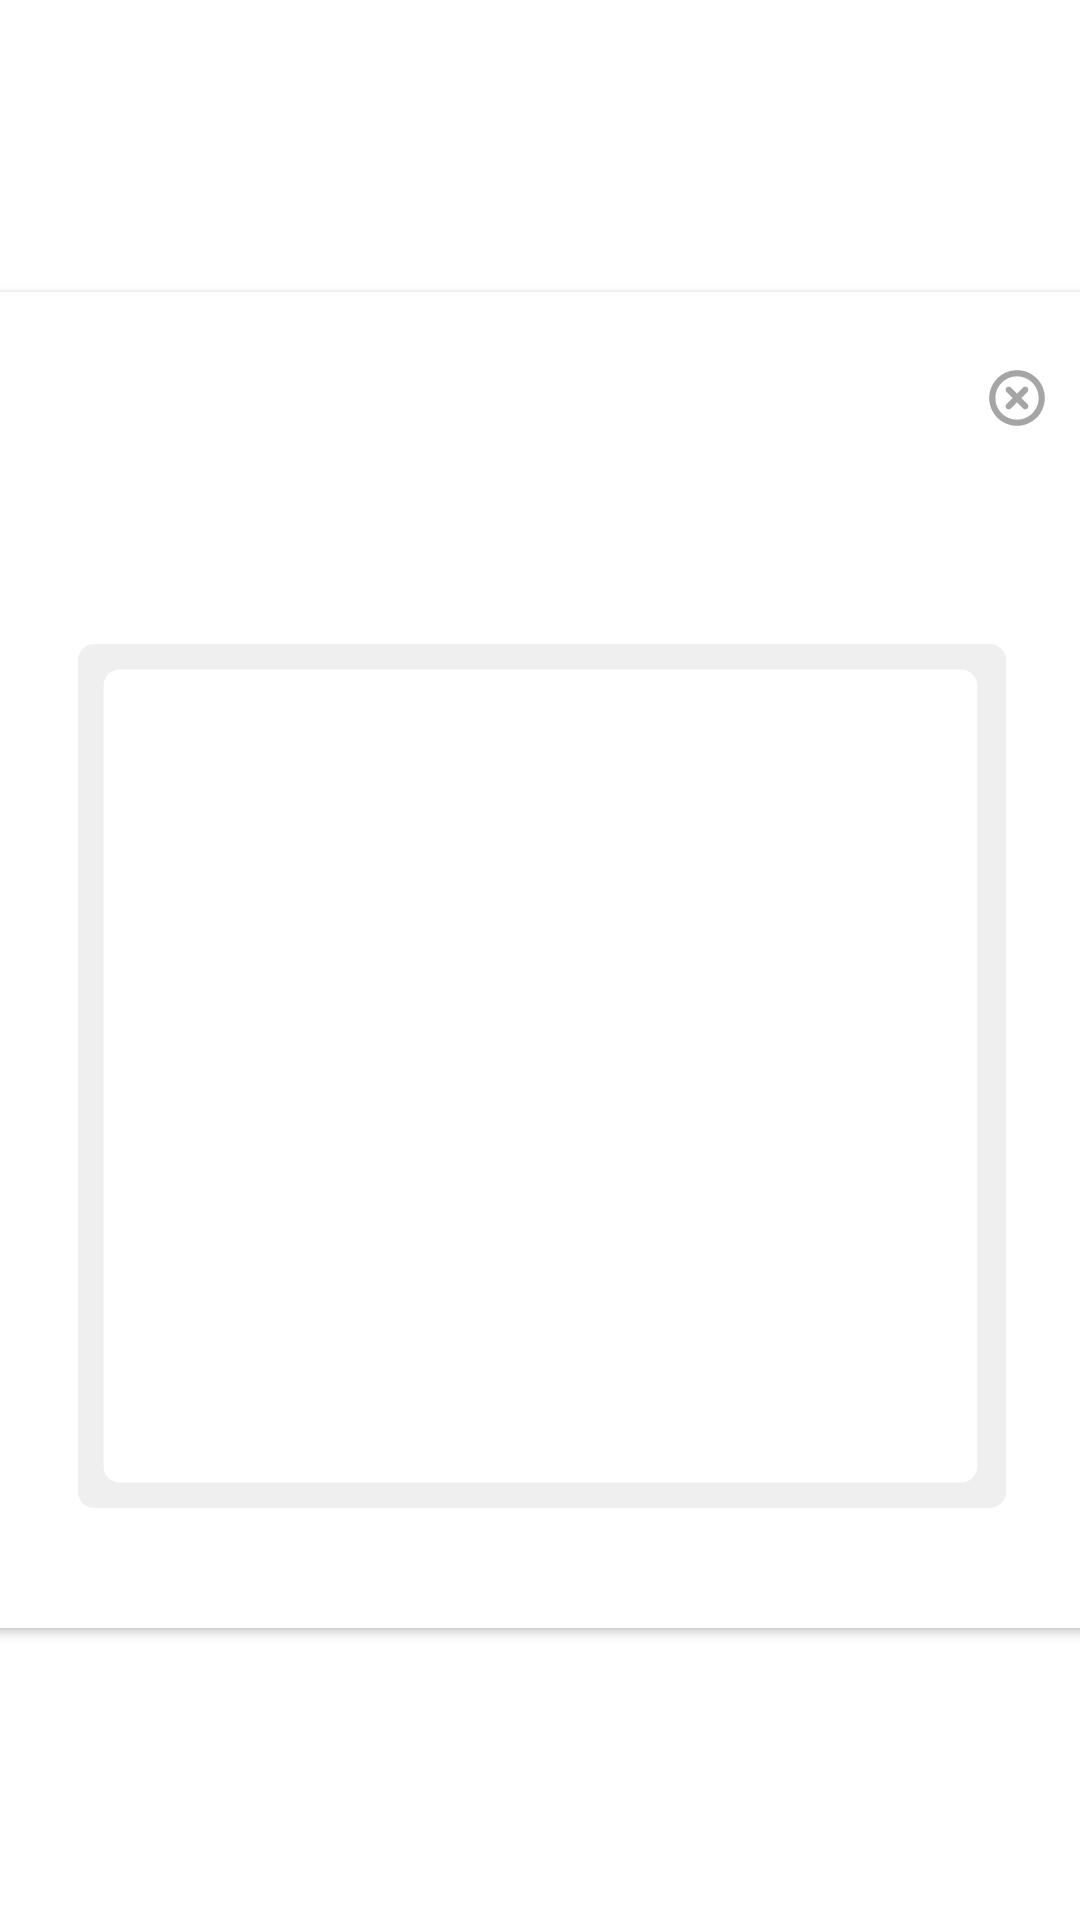

Icon click points for this 1080×1920 phone screenshot, format (x=x, y=y):
product close: (x=1017, y=398)
